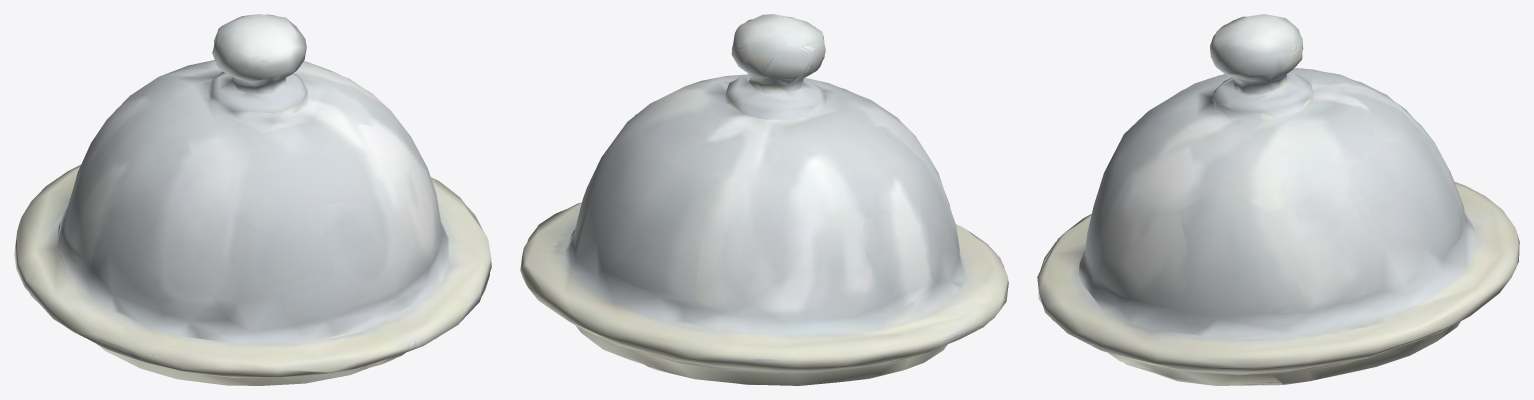
The model's file is cloche-lite.glb.
3 renders of one model, left to right at view 1: azimuth 30°, elevation 25°; view 2: azimuth 150°, elevation 25°; view 3: azimuth 270°, elevation 25°, orthographic.
Visible parts, largest first — view 1: geometry_0; view 2: geometry_0; view 3: geometry_0.
Boxes of the visible parts, left/top/right/bottom form: geometry_0: left=14, top=14, right=491, bottom=385; geometry_0: left=520, top=14, right=1008, bottom=385; geometry_0: left=1037, top=14, right=1519, bottom=385.
Size of the model in its own units: 0.9065 by 0.7079 by 0.9063.
Materials: 1 (1 with a texture image).
